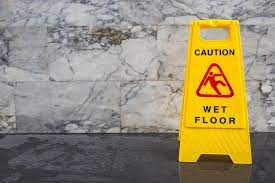wet caution sign: (175, 12, 257, 173)
